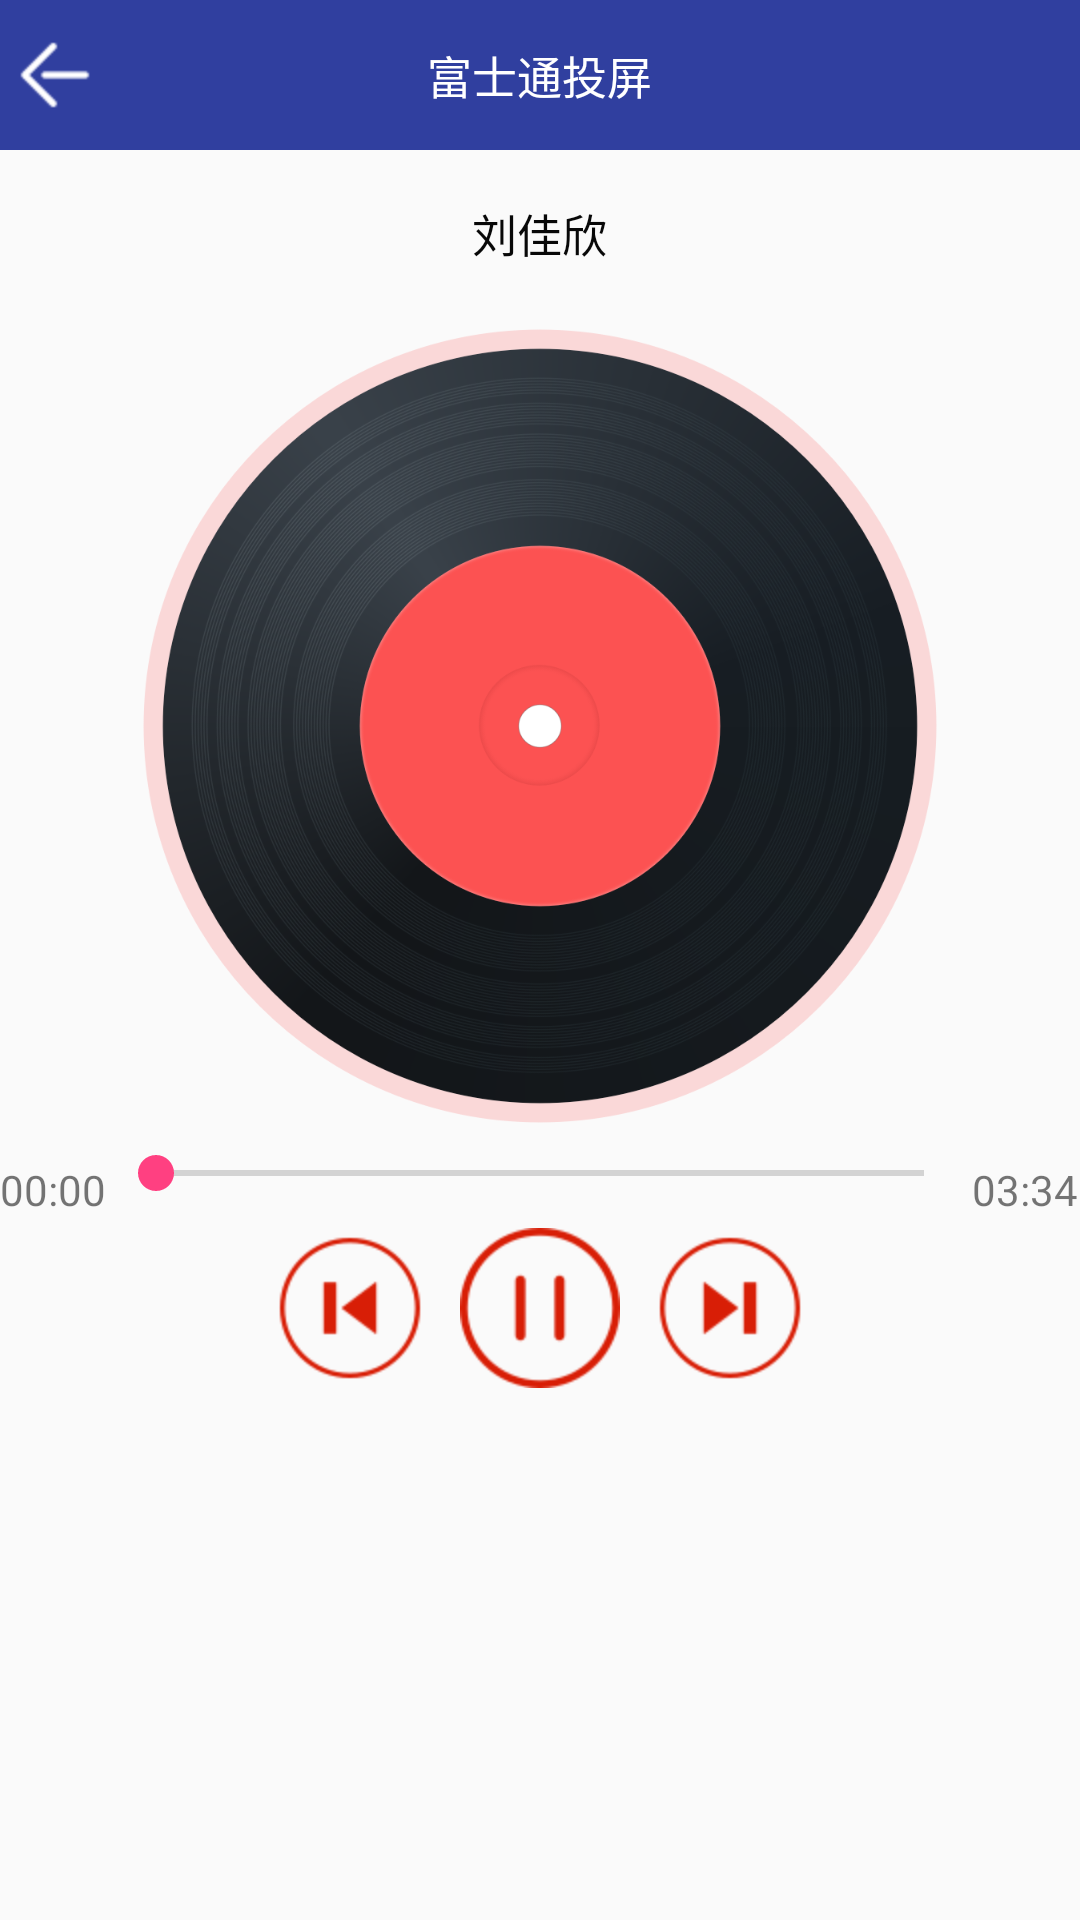

Icons on this 1080x1920 Android screen, each with its box as (x1, y1, x2, y2):
back: (20, 42, 90, 108)
next: (659, 1237, 801, 1379)
pre: (279, 1237, 421, 1379)
